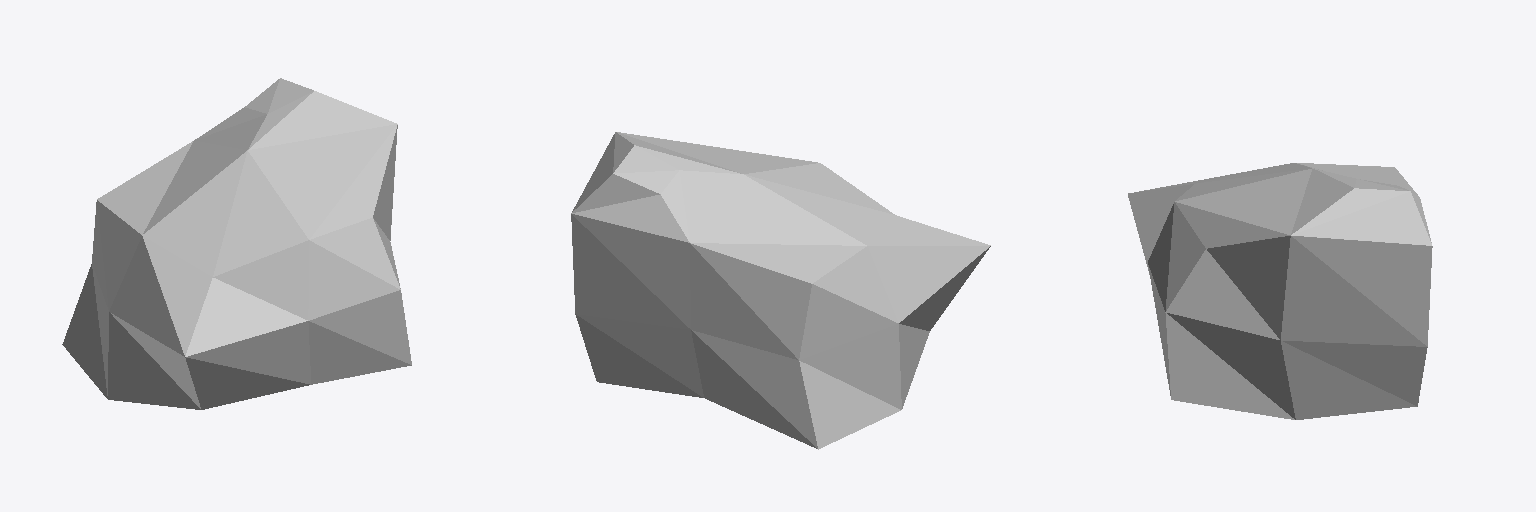
File: rock9.obj
3 renders of one model, left to right at view 1: azimuth 30°, elevation 25°; view 2: azimuth 150°, elevation 25°; view 3: azimuth 270°, elevation 25°, orthographic.
Parts seen in each view (by area): view 1: Rock3.001_Cube.043; view 2: Rock3.001_Cube.043; view 3: Rock3.001_Cube.043.
Part boxes in pixels (bbox=[...]): Rock3.001_Cube.043: bbox=[62, 78, 411, 409]; Rock3.001_Cube.043: bbox=[571, 132, 990, 449]; Rock3.001_Cube.043: bbox=[1128, 163, 1432, 419].
Bounding box in the file's own units: 1.06 × 0.7904 × 0.9535.